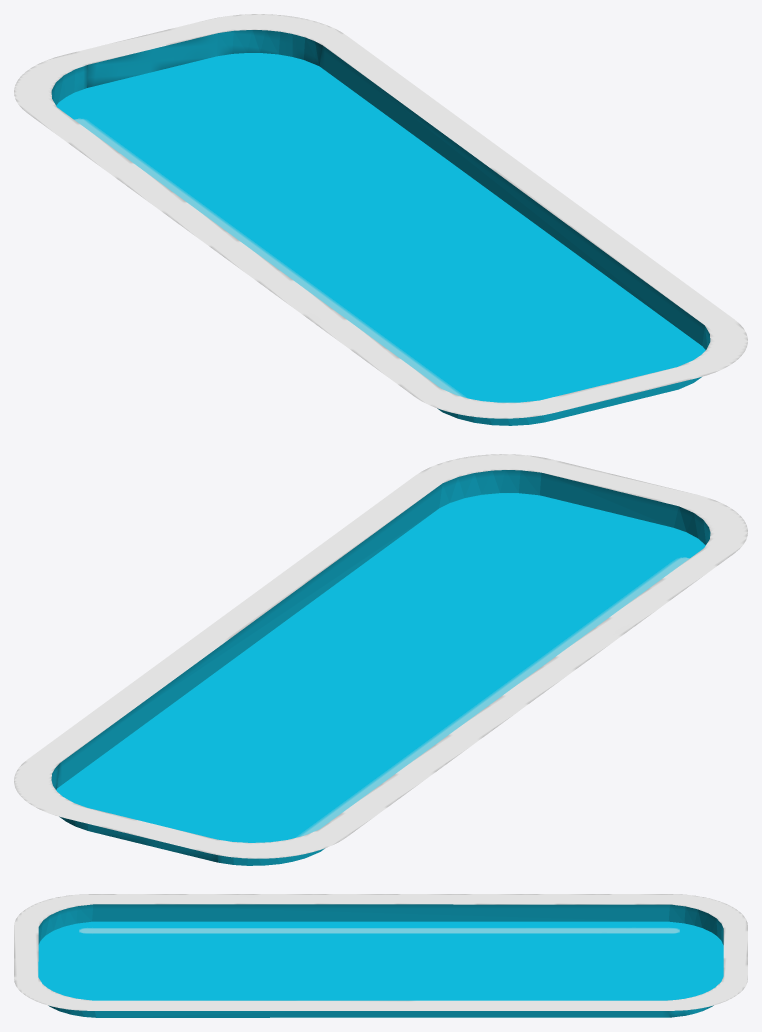
The model's file is Waterpool.fbx.
3 renders of one model, top to bottom at view 1: azimuth 30°, elevation 25°; view 2: azimuth 150°, elevation 25°; view 3: azimuth 270°, elevation 25°, orthographic. The views are drawn at different scales.
Visible parts, largest first — view 1: Water long lowpoly; view 2: Water long lowpoly; view 3: Water long lowpoly.
Part boxes in pixels (<box>): Water long lowpoly: <box>14,14,747,425</box>; Water long lowpoly: <box>14,454,747,865</box>; Water long lowpoly: <box>14,894,747,1017</box>.
Size of the model in its own units: 37.42 by 2.57 by 99.39.
